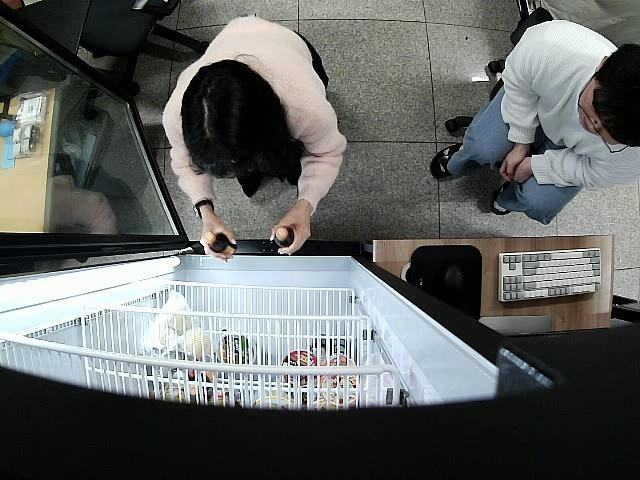17_vita500: (200, 230, 237, 262), (270, 226, 295, 252)
